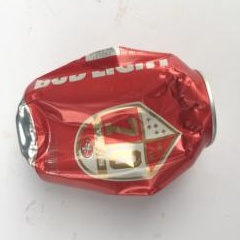Metal: (8, 41, 221, 202)
